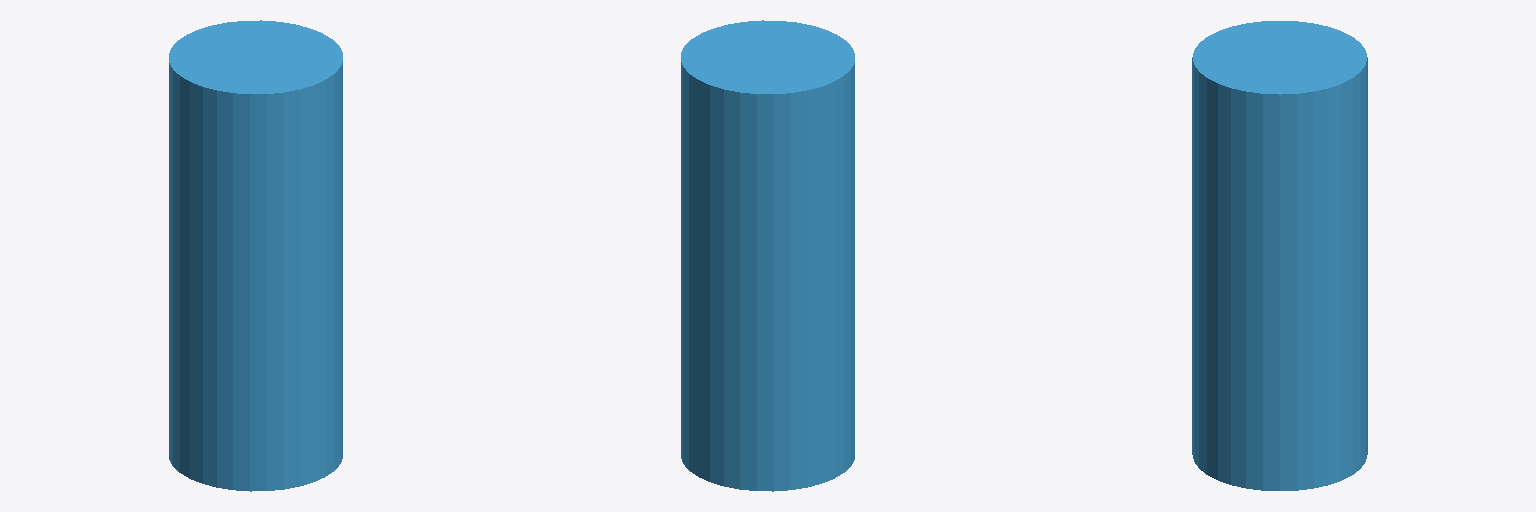
robot.urdf — ABB1200:
<?xml version="1.0" ?>
<robot name="ABB1200">
  <joint name="ABB4_joint_1" type="revolute">
    <parent link="ABB4_base_link"/>
    <child link="ABB4_link_1"/>
    <origin rpy="0 0 0" xyz="0     0     0.3991"/>
    <axis xyz="0 0 1"/>
    <limit effort="1000.0" lower="-2.967" upper="2.967" velocity="5.027"/>
  </joint>
  <joint name="ABB4_joint_2" type="revolute">
    <parent link="ABB4_link_1"/>
    <child link="ABB4_link_2"/>
    <origin rpy="0 0 0" xyz="0 0 0"/>
    <axis xyz="0 1 0"/>
    <limit effort="1000.0" lower="-1.745" upper="2.269" velocity="4.189"/>
  </joint>
  <joint name="ABB4_joint_3" type="revolute">
    <parent link="ABB4_link_2"/>
    <child link="ABB4_link_3"/>
    <origin rpy="0 0 0" xyz="0    0    0.448"/>
    <axis xyz="0 1 0"/>
    <limit effort="1000.0" lower="-3.491" upper="1.222" velocity="5.236"/>
  </joint>
  <joint name="ABB4_joint_4" type="revolute">
    <parent link="ABB4_link_3"/>
    <child link="ABB4_link_4"/>
    <origin rpy="0 0 0" xyz="0    0    0.042"/>
    <axis xyz="1 0 0"/>
    <limit effort="1000.0" lower="-4.712" upper="4.712" velocity="6.981"/>
  </joint>
  <joint name="ABB4_joint_5" type="revolute">
    <parent link="ABB4_link_4"/>
    <child link="ABB4_link_5"/>
    <origin rpy="0 0 0" xyz="0.451 0    0"/>
    <axis xyz="0 1 0"/>
    <limit effort="1000.0" lower="-2.269" upper="2.269" velocity="7.069"/>
  </joint>
  <joint name="ABB4_joint_6" type="revolute">
    <parent link="ABB4_link_5"/>
    <child link="ABB4_link_6"/>
    <origin rpy="0 0 0" xyz="0.082 0    0"/>
    <axis xyz="1 0 0"/>
    <limit effort="1000.0" lower="-6.283" upper="6.283" velocity="10.472"/>
  </joint>
  <joint name="ABB4_pedestal_JOINT_0" type="fixed">
    <parent link="ABB4_pedestal"/>
    <child link="ABB4_base_link"/>
    <origin rpy="0 0 0" xyz="0 0 0"/>
    <axis xyz="0 0 0"/>
    <limit effort="0" lower="0" upper="0" velocity="0"/>
  </joint>
  <link name="ABB4_base_link">
    <inertial>
      <mass value="13.7742"/>
      <origin rpy="0 0 0" xyz="-0.02898  0.00059  0.11273"/>
      <inertia ixx="0.101998" ixy="0.000495482" ixz="0.000311158" iyy="0.13969" iyz="-0.000245375" izz="0.130433"/>
    </inertial>
    <collision name="ABB4_base_link_fixed_joint_lump__collision_collision">
      <origin rpy="0 0 0" xyz="0 0 0"/>
      <geometry>
        <mesh filename="model://ABB1200/meshes/collision/base_link.stl" scale="1 1 1"/>
      </geometry>
    </collision>
    <visual name="ABB4_base_link_fixed_joint_lump__visual_visual">
      <origin rpy="0 0 0" xyz="0 0 0"/>
      <geometry>
        <mesh filename="model://ABB1200/meshes/visual/base_link.dae" scale="1 1 1"/>
      </geometry>
    </visual>
  </link>
  <link name="ABB4_pedestal">
    <inertial>
      <mass value="1"/>
      <origin rpy="0 0 0" xyz="0 0 0"/>
      <inertia ixx="0.145833" ixy="0" ixz="0" iyy="0.145833" iyz="0" izz="0.125"/>
    </inertial>
    <collision name="ABB4_collision">
      <origin rpy="0 0 0" xyz="0   0  -0.4"/>
      <geometry>
        <cylinder length="0.9" radius="0.2"/>
      </geometry>
    </collision>
    <visual name="ABB4_visual">
      <origin rpy="0 0 0" xyz="0   0  -0.5"/>
      <geometry>
        <cylinder length="1.0" radius="0.2"/>
      </geometry>
    </visual>
  </link>
  <link name="ABB4_link_1">
    <inertial>
      <mass value="11.8419"/>
      <origin rpy="0 0 0" xyz="0.00087 -0.00063 -0.06288"/>
      <inertia ixx="0.11194" ixy="-4.54988e-05" ixz="0.000280961" iyy="0.0915159" iyz="-0.000109905" izz="0.0876456"/>
    </inertial>
    <collision name="ABB4_link_1_fixed_joint_lump__collision_collision">
      <origin rpy="0 0 0" xyz="0 0 0"/>
      <geometry>
        <mesh filename="model://ABB1200/meshes/collision/link_1.stl" scale="1 1 1"/>
      </geometry>
    </collision>
    <visual name="ABB4_link_1_fixed_joint_lump__visual_visual">
      <origin rpy="0 0 0" xyz="0 0 0"/>
      <geometry>
        <mesh filename="model://ABB1200/meshes/visual/link_1.dae" scale="1 1 1"/>
      </geometry>
    </visual>
  </link>
  <link name="ABB4_link_2">
    <inertial>
      <mass value="17.5394"/>
      <origin rpy="0 0 0" xyz="-0.00092 -0.00049  0.25005"/>
      <inertia ixx="0.493558" ixy="1.32136e-05" ixz="0.000209024" iyy="0.462939" iyz="-0.00179901" izz="0.0894214"/>
    </inertial>
    <collision name="ABB4_link_2_fixed_joint_lump__collision_collision">
      <origin rpy="0 0 0" xyz="0 0 0"/>
      <geometry>
        <mesh filename="model://ABB1200/meshes/collision/link_2.stl" scale="1 1 1"/>
      </geometry>
    </collision>
    <visual name="ABB4_link_2_fixed_joint_lump__visual_visual">
      <origin rpy="0 0 0" xyz="0 0 0"/>
      <geometry>
        <mesh filename="model://ABB1200/meshes/visual/link_2.dae" scale="1 1 1"/>
      </geometry>
    </visual>
  </link>
  <link name="ABB4_link_3">
    <inertial>
      <mass value="7.46365"/>
      <origin rpy="0 0 0" xyz="0.09958 0.00114 0.03233"/>
      <inertia ixx="0.0252424" ixy="0.000142737" ixz="-0.00565542" iyy="0.0906438" iyz="0.000142213" izz="0.0825079"/>
    </inertial>
    <collision name="ABB4_link_3_fixed_joint_lump__collision_collision">
      <origin rpy="0 0 0" xyz="0 0 0"/>
      <geometry>
        <mesh filename="model://ABB1200/meshes/collision/link_3.stl" scale="1 1 1"/>
      </geometry>
    </collision>
    <visual name="ABB4_link_3_fixed_joint_lump__visual_visual">
      <origin rpy="0 0 0" xyz="0 0 0"/>
      <geometry>
        <mesh filename="model://ABB1200/meshes/visual/link_3.dae" scale="1 1 1"/>
      </geometry>
    </visual>
  </link>
  <link name="ABB4_link_4">
    <inertial>
      <mass value="2.74436"/>
      <origin rpy="0 0 0" xyz="0.38167 0.00126 0.00516"/>
      <inertia ixx="0.00573099" ixy="-0.000131119" ixz="0.000380232" iyy="0.0118352" iyz="-2.26565e-05" izz="0.0114428"/>
    </inertial>
    <collision name="ABB4_link_4_fixed_joint_lump__collision_collision">
      <origin rpy="0 0 0" xyz="0 0 0"/>
      <geometry>
        <mesh filename="model://ABB1200/meshes/collision/link_4.stl" scale="1 1 1"/>
      </geometry>
    </collision>
    <visual name="ABB4_link_4_fixed_joint_lump__visual_visual">
      <origin rpy="0 0 0" xyz="0 0 0"/>
      <geometry>
        <mesh filename="model://ABB1200/meshes/visual/link_4.dae" scale="1 1 1"/>
      </geometry>
    </visual>
  </link>
  <link name="ABB4_link_5">
    <inertial>
      <mass value="0.62953"/>
      <origin rpy="0 0 0" xyz="0.01119 -0.00105  0.0001"/>
      <inertia ixx="0.000502815" ixy="-1.03173e-05" ixz="-8.74347e-08" iyy="0.00108856" iyz="2.07657e-07" izz="0.000918873"/>
    </inertial>
    <collision name="ABB4_link_5_fixed_joint_lump__collision_collision">
      <origin rpy="0 0 0" xyz="0 0 0"/>
      <geometry>
        <mesh filename="model://ABB1200/meshes/collision/link_5.stl" scale="1 1 1"/>
      </geometry>
    </collision>
    <visual name="ABB4_link_5_fixed_joint_lump__visual_visual">
      <origin rpy="0 0 0" xyz="0 0 0"/>
      <geometry>
        <mesh filename="model://ABB1200/meshes/visual/link_5.dae" scale="1 1 1"/>
      </geometry>
    </visual>
  </link>
  <link name="ABB4_link_6">
    <inertial>
      <mass value="0.137"/>
      <origin rpy="0 0 0" xyz="-0.00706 -0.00017  0"/>
      <inertia ixx="0.001" ixy="0" ixz="0" iyy="0.001" iyz="0" izz="0.001"/>
    </inertial>
    <collision name="ABB4_link_6_fixed_joint_lump__collision_collision">
      <origin rpy="0 0 0" xyz="0 0 0"/>
      <geometry>
        <mesh filename="model://ABB1200/meshes/collision/link_6.stl" scale="1 1 1"/>
      </geometry>
    </collision>
    <visual name="ABB4_link_6_fixed_joint_lump__visual_visual">
      <origin rpy="0 0 0" xyz="0 0 0"/>
      <geometry>
        <mesh filename="model://ABB1200/meshes/visual/link_6.dae" scale="1 1 1"/>
      </geometry>
    </visual>
  </link>
</robot>

--- Facts derived from the render (not from the file) ---
Views: 3 orthographic renders of the robot side by side, from view 1: azimuth 30°, elevation 25°; view 2: azimuth 150°, elevation 25°; view 3: azimuth 270°, elevation 25°.
Model ABB1200 with 8 links and 7 joints (6 revolute, 1 fixed), rooted at ABB4_pedestal, posed all joints at 0.
Links seen in each view (by area): view 1: ABB4_pedestal; view 2: ABB4_pedestal; view 3: ABB4_pedestal.
Link boxes in pixels (box(x1,y1,x2,y2)): ABB4_pedestal: box(169, 20, 342, 491); ABB4_pedestal: box(681, 20, 854, 491); ABB4_pedestal: box(1192, 21, 1367, 490).
Bounding box of the posed robot: 0.4 × 0.4 × 1 m (x, y, z).
0 mesh visuals loaded from 7 distinct referenced files (none loaded); not drawn: 7 (reference not matched to a file when rendering).